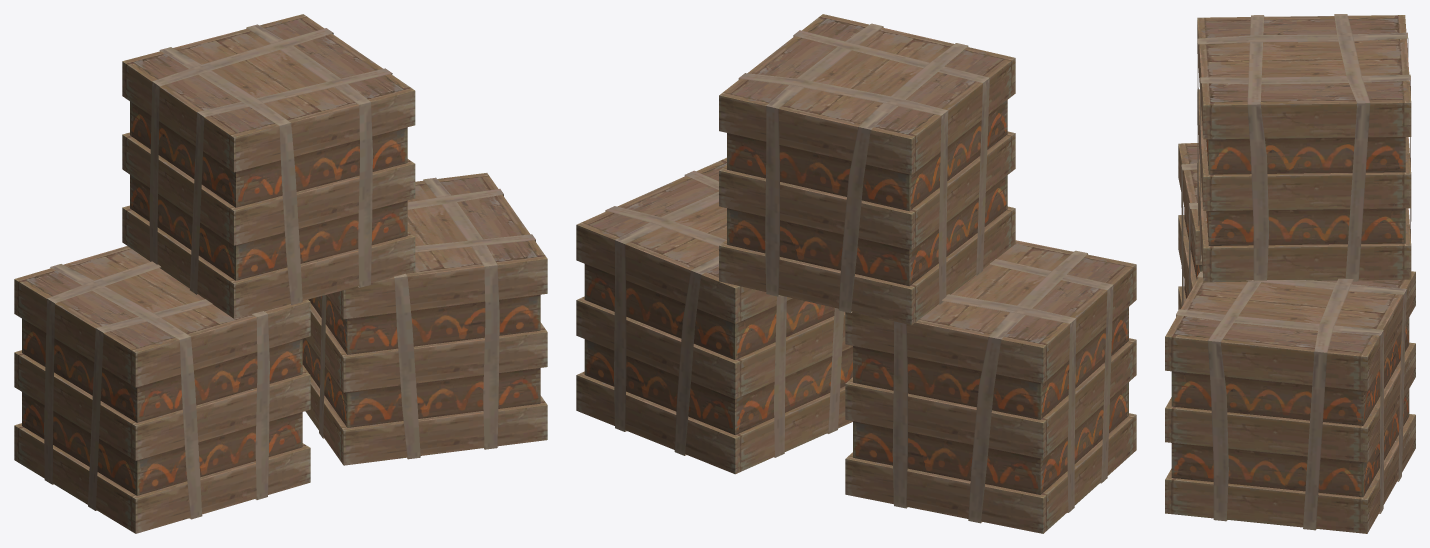
File: Homeworld_Exterior_Xm_Decoration_Prop_Xiangzi_01_Lod0.fbx
3 views of the same model, side by side, from view 1: azimuth 30°, elevation 25°; view 2: azimuth 150°, elevation 25°; view 3: azimuth 270°, elevation 25° (orthographic). The views are drawn at different scales.
Visible parts, largest first — view 1: Area_Xm_Prop_ARC_Xiangzi_01_Lod0 (2), Area_Xm_Prop_ARC_Xiangzi_01_Lod0, Area_Xm_Prop_ARC_Xiangzi_01_Lod0 (1); view 2: Area_Xm_Prop_ARC_Xiangzi_01_Lod0 (2), Area_Xm_Prop_ARC_Xiangzi_01_Lod0, Area_Xm_Prop_ARC_Xiangzi_01_Lod0 (1); view 3: Area_Xm_Prop_ARC_Xiangzi_01_Lod0 (1), Area_Xm_Prop_ARC_Xiangzi_01_Lod0 (2), Area_Xm_Prop_ARC_Xiangzi_01_Lod0.
Part boxes in pixels (box(x1,y1,x2,y2)): Area_Xm_Prop_ARC_Xiangzi_01_Lod0 (2): box(122, 14, 415, 318); Area_Xm_Prop_ARC_Xiangzi_01_Lod0: box(14, 246, 310, 533); Area_Xm_Prop_ARC_Xiangzi_01_Lod0 (1): box(302, 173, 547, 465); Area_Xm_Prop_ARC_Xiangzi_01_Lod0 (2): box(719, 14, 1015, 325); Area_Xm_Prop_ARC_Xiangzi_01_Lod0: box(845, 240, 1136, 533); Area_Xm_Prop_ARC_Xiangzi_01_Lod0 (1): box(576, 157, 852, 474); Area_Xm_Prop_ARC_Xiangzi_01_Lod0 (1): box(1165, 271, 1415, 533); Area_Xm_Prop_ARC_Xiangzi_01_Lod0 (2): box(1197, 14, 1411, 282); Area_Xm_Prop_ARC_Xiangzi_01_Lod0: box(1178, 143, 1202, 309).
Bounding box in the file's own units: 3.1 × 2.34 × 1.49.
